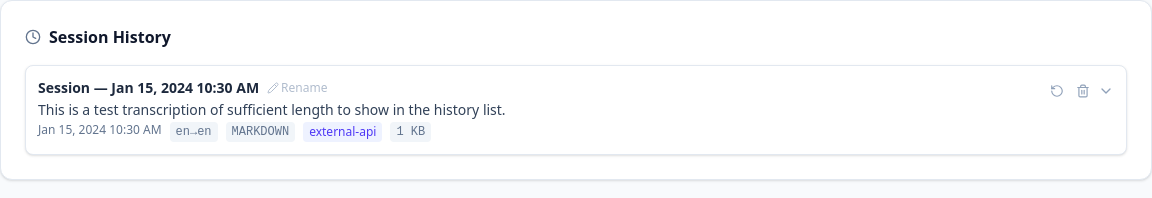
Test case: SessionHistory › delete button requires confirm — single click does not delete
Expected: the list item with test id "session-row" is shown, [25,65,1127,155]
Click the button named "delete session" at (1083, 91), box [1072,80,1094,102]
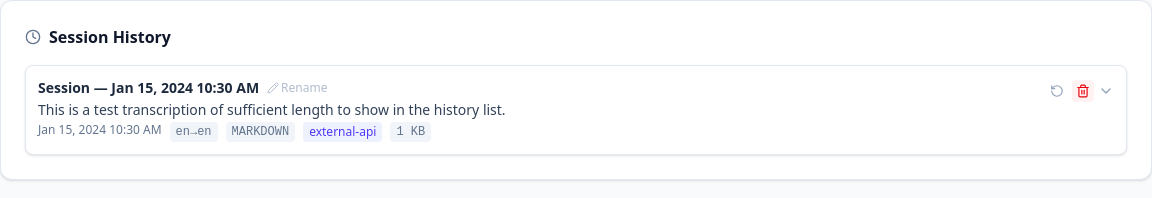
Expected: the button named "confirm delete" is shown, [1072,80,1094,102]
